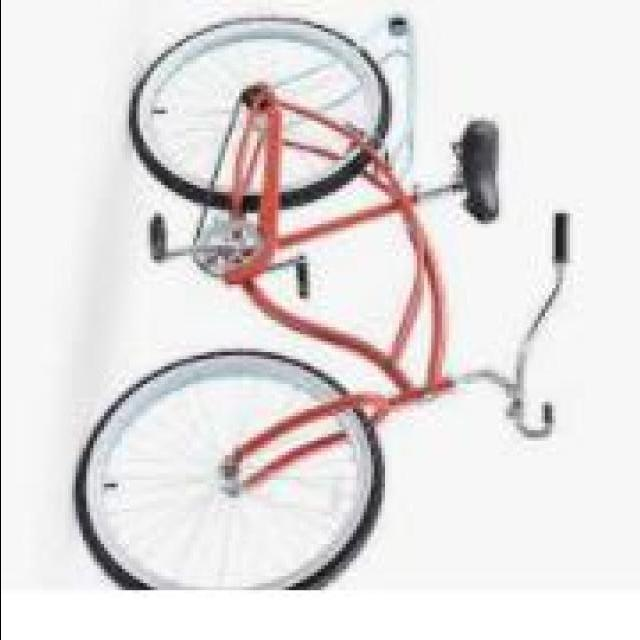bicycle: (86, 8, 588, 602)
